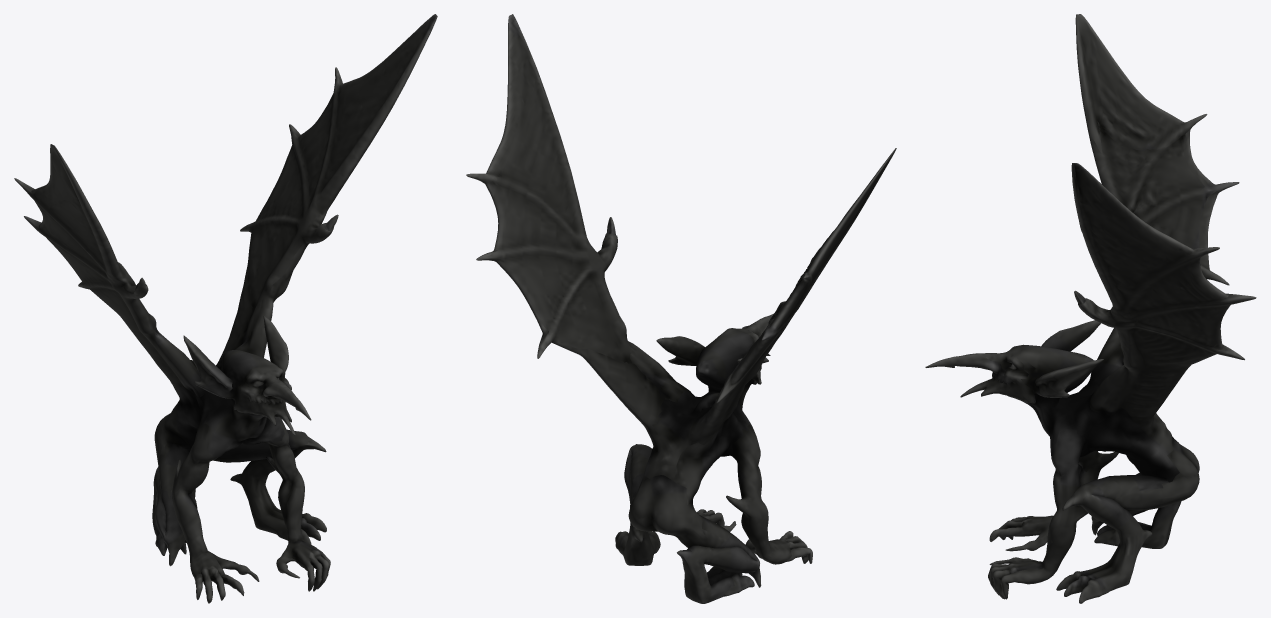
File: MZ4250 - Smoke Mephit_1 2025.glb
3 renders of one model, left to right at view 1: azimuth 30°, elevation 25°; view 2: azimuth 150°, elevation 25°; view 3: azimuth 270°, elevation 25°, orthographic.
Parts seen in each view (by area): view 1: Cylinder.001; view 2: Cylinder.001; view 3: Cylinder.001.
Boxes of the visible parts, x1,y1,x2,y2 form: Cylinder.001: (14, 14, 437, 603); Cylinder.001: (466, 14, 896, 603); Cylinder.001: (925, 14, 1256, 603).
Size of the model in its own units: 83.5 by 106 by 62.39.
Materials: 1 (1 with a texture image).
